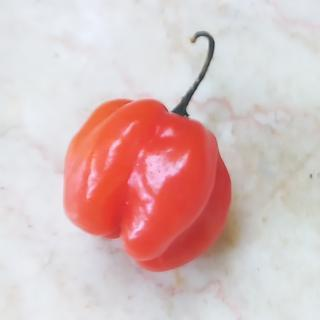Grade-B: (49, 88, 233, 274)
